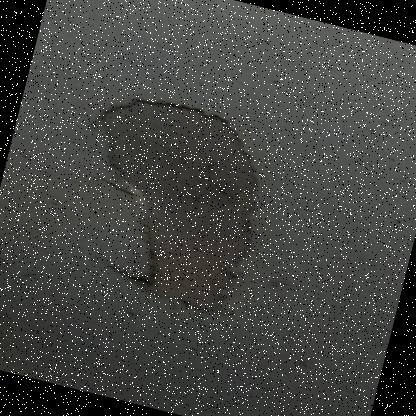Crack: (13, 43, 304, 332)
